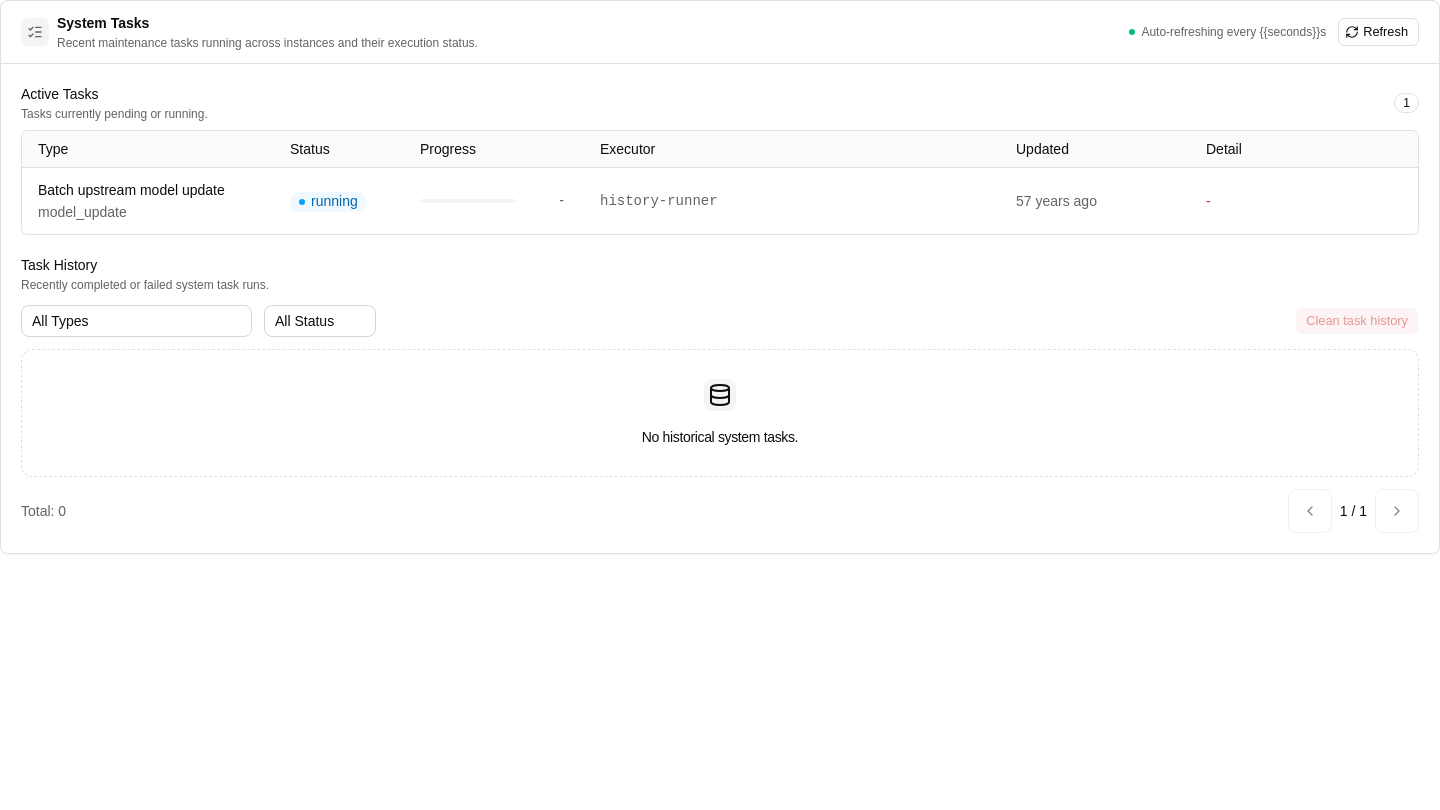
Test case: refreshes history when the last running task finishes
This screenshot has width=1440, height=810.
Expected: the text "No historical system tasks." is shown, [642,426,798,446]
Click the button "Refresh" at (1379, 32), box [1338,18,1419,46]
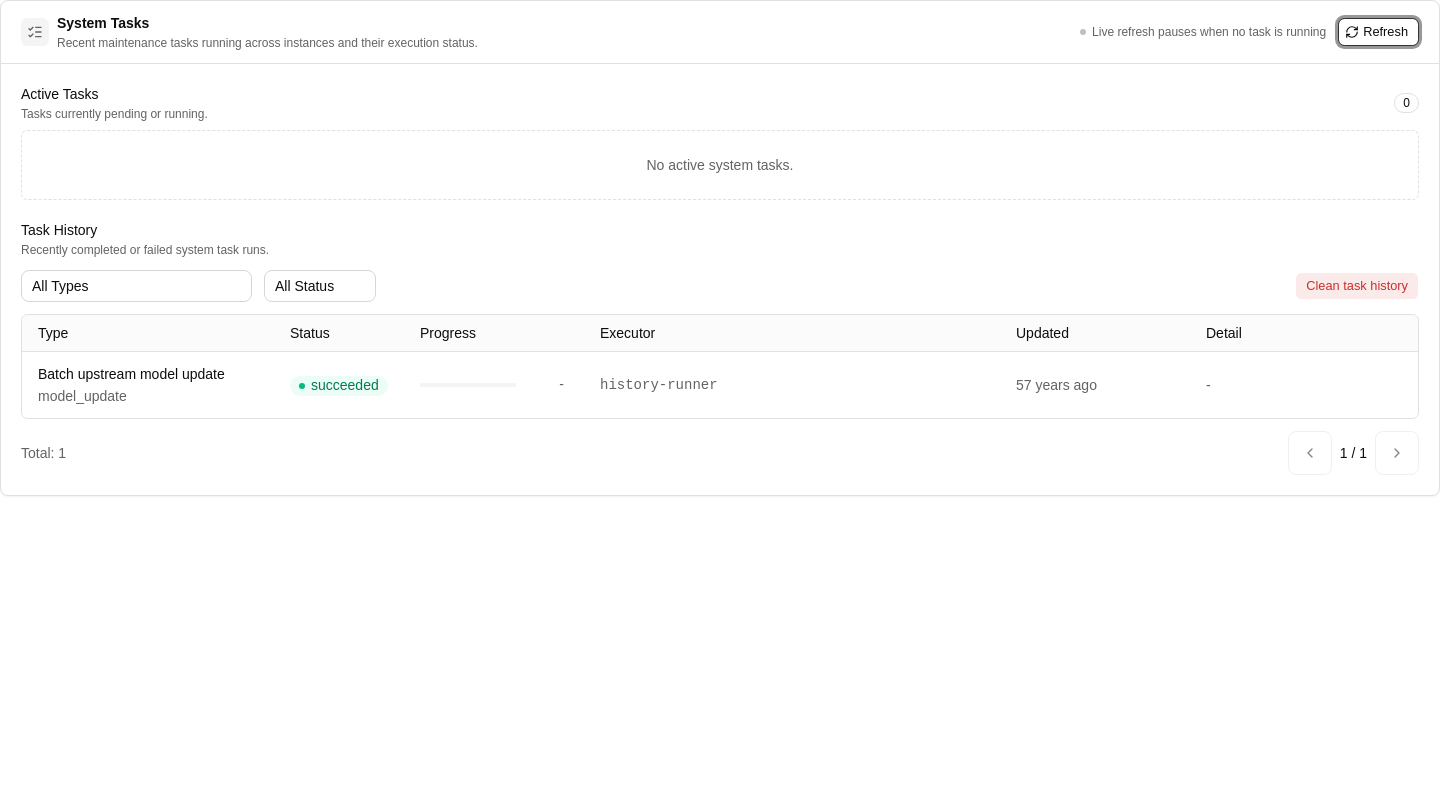
Expected: the text "history-runner" is shown, [592,351,1008,418]
Result: the text "No active system tasks." is shown at [21,130,1419,200]
Result: the text "No historical system tasks." is gone
